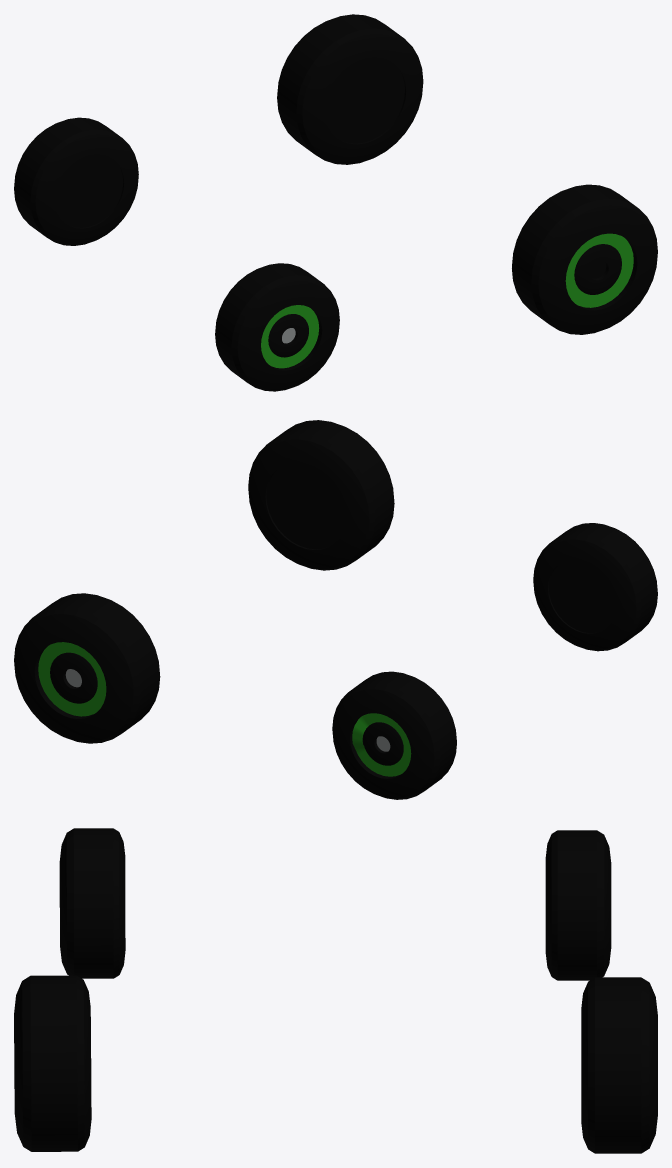
The model's file is rodas.fbx.
The picture shows the model from 3 angles, top to bottom: view 1: azimuth 30°, elevation 25°; view 2: azimuth 150°, elevation 25°; view 3: azimuth 270°, elevation 25°; orthographic projection. The views are drawn at different scales.
Visible parts, largest first — view 1: kart.004, kart.003, rodas.004, rodas.005; view 2: kart.003, kart.004, rodas.004, rodas.005; view 3: kart.003, kart.004, rodas.004, rodas.005.
Part boxes in pixels (x1=…): kart.004: x1=277, y1=14, x2=423, y2=164; kart.003: x1=512, y1=184, x2=657, y2=334; rodas.004: x1=14, y1=117, x2=138, y2=245; rodas.005: x1=215, y1=263, x2=339, y2=391; kart.003: x1=248, y1=420, x2=394, y2=570; kart.004: x1=14, y1=593, x2=160, y2=743; rodas.004: x1=332, y1=671, x2=456, y2=799; rodas.005: x1=533, y1=523, x2=657, y2=651; kart.003: x1=14, y1=975, x2=91, y2=1151; kart.004: x1=581, y1=977, x2=657, y2=1153; rodas.004: x1=545, y1=830, x2=611, y2=980; rodas.005: x1=59, y1=828, x2=125, y2=978.
Bounding box in the file's own units: 2394 × 753 × 2717.
